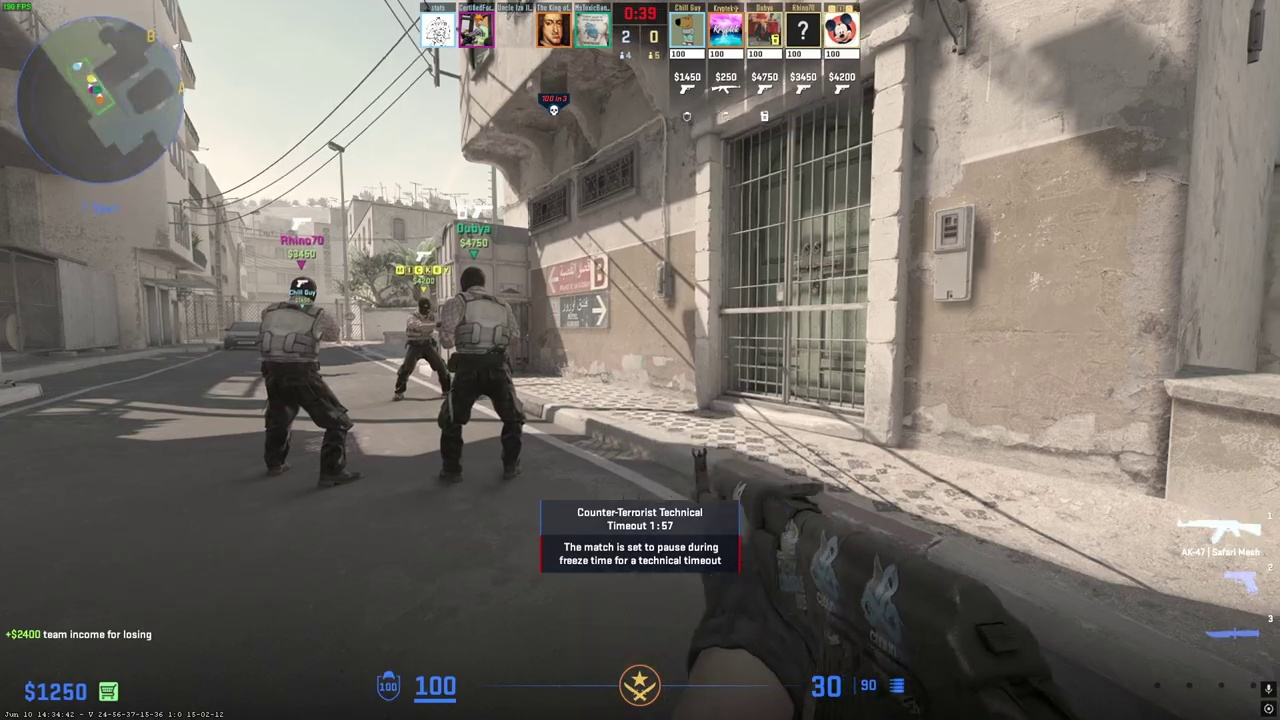Terrorist: (258, 276, 347, 488), (440, 266, 526, 484), (395, 298, 447, 401)
